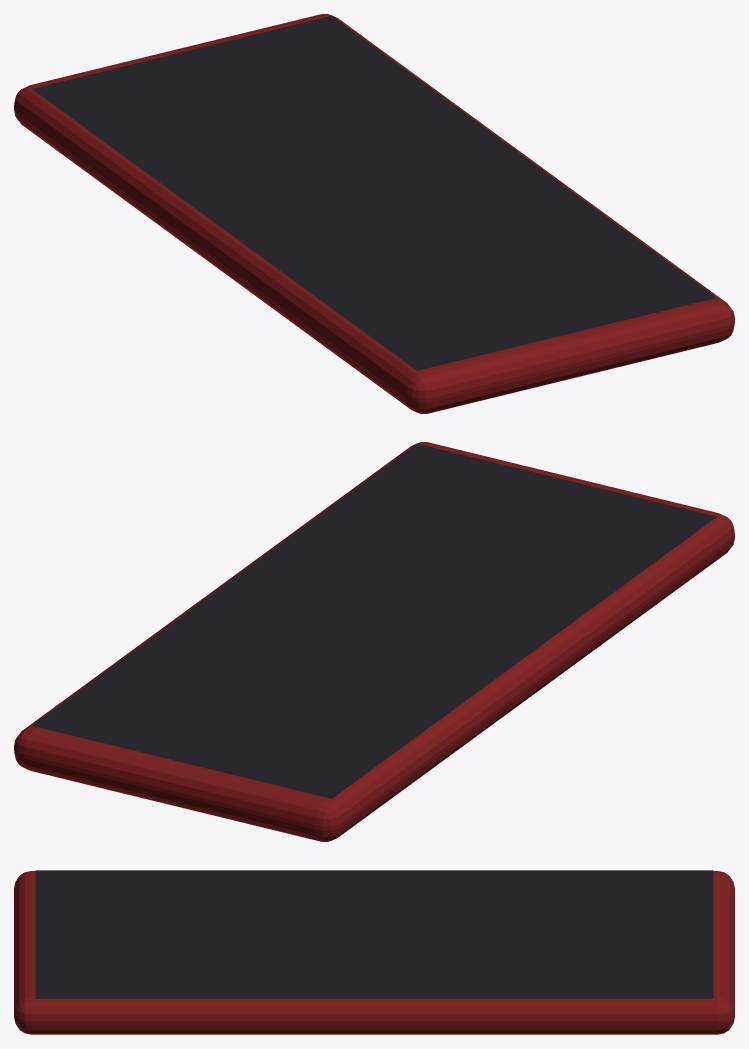
File: iqoo-number-series-model-223-budget-2023.glb
3 renders of one model, top to bottom at view 1: azimuth 30°, elevation 25°; view 2: azimuth 150°, elevation 25°; view 3: azimuth 270°, elevation 25°, orthographic. The views are drawn at different scales.
Visible parts, largest first — view 1: Phone_Screen, Phone_Body; view 2: Phone_Screen, Phone_Body; view 3: Phone_Screen, Phone_Body.
Part boxes in pixels (box(x1,y1,x2,y2)): Phone_Screen: box(32, 15, 716, 370); Phone_Body: box(14, 14, 734, 413); Phone_Screen: box(32, 443, 716, 798); Phone_Body: box(14, 442, 734, 841); Phone_Screen: box(35, 870, 713, 998); Phone_Body: box(14, 871, 734, 1034).
Bounding box in the file's own units: 0.0751 × 0.009 × 0.1635.
